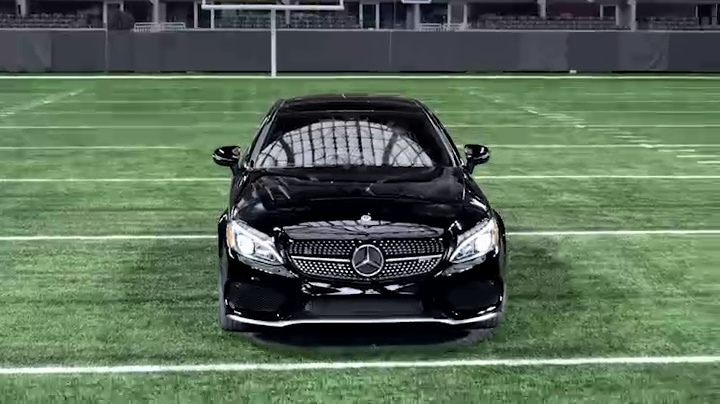amg: (208, 88, 511, 351)
